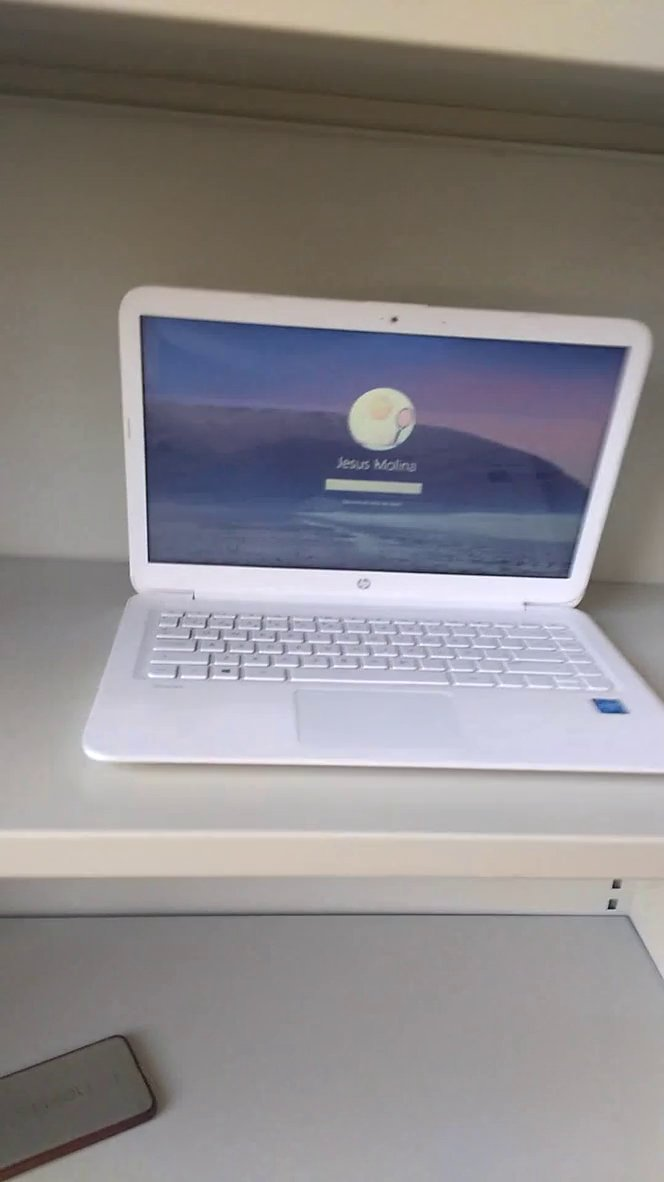laptop: (71, 263, 664, 796)
